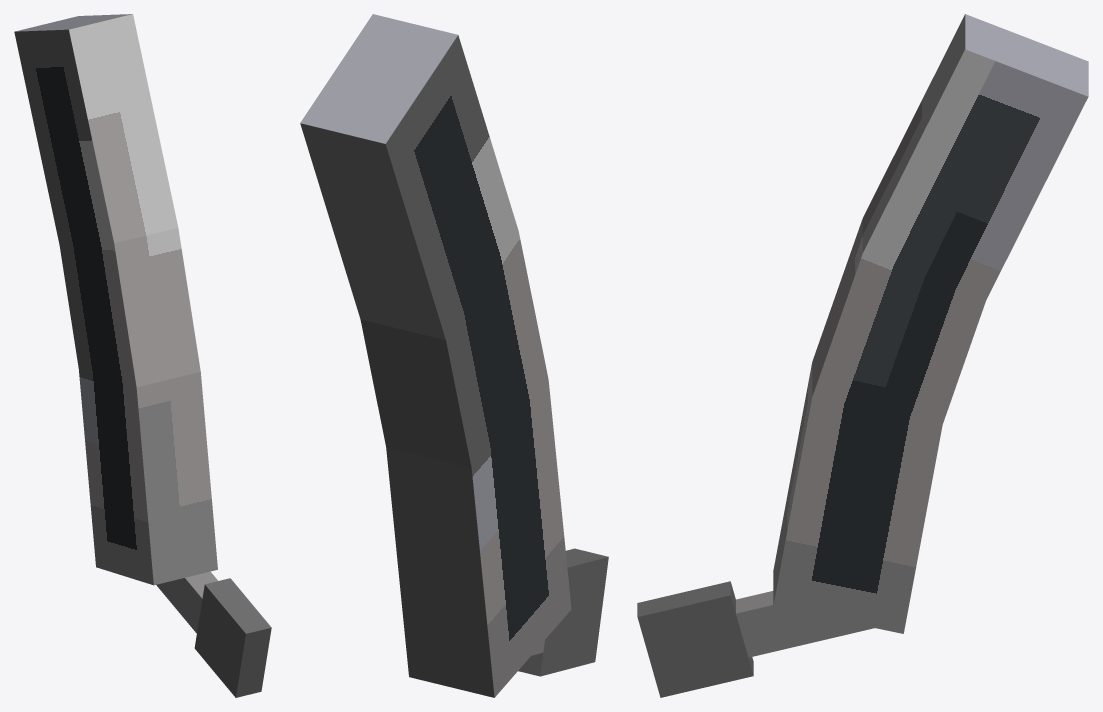
The model's file is expansion_link.obj.
The picture shows the model from 3 angles, left to right: view 1: azimuth 30°, elevation 25°; view 2: azimuth 150°, elevation 25°; view 3: azimuth 270°, elevation 25°; orthographic projection. The views are drawn at different scales.
Parts seen in each view (by area): view 1: 月牙板; view 2: 月牙板; view 3: 月牙板.
Boxes of the visible parts, box(x1,y1,x2,y2) form: 月牙板: box(14, 14, 271, 697); 月牙板: box(300, 14, 608, 697); 月牙板: box(637, 14, 1088, 697).
Bounding box in the file's own units: 0.125 × 1.07 × 0.6734.
